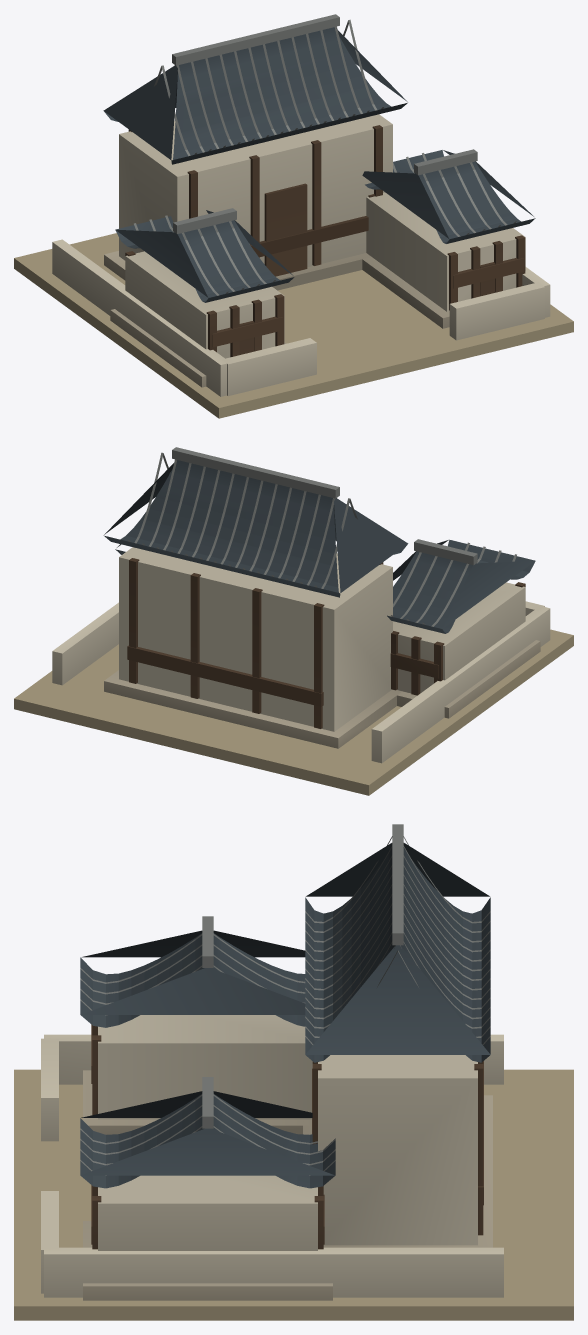
The model's file is hostel-3.glb.
3 views of the same model, one above another, from view 1: azimuth 30°, elevation 25°; view 2: azimuth 150°, elevation 25°; view 3: azimuth 270°, elevation 25° (orthographic). The views are drawn at different scales.
Parts seen in each view (by area): view 1: hostel 3 1, hostel 3 2, hostel 3 4, hostel 3 3, hostel 3 5, hostel 3 0; view 2: hostel 3 1, hostel 3 2, hostel 3 4, hostel 3 3, hostel 3 5, hostel 3 0; view 3: hostel 3 1, hostel 3 2, hostel 3 4, hostel 3 5, hostel 3 0, hostel 3 3.
Boxes of the visible parts, x1,y1,x2,y2 form: hostel 3 1: [52, 114, 550, 396]; hostel 3 2: [103, 27, 535, 302]; hostel 3 4: [14, 233, 573, 418]; hostel 3 3: [125, 125, 525, 357]; hostel 3 5: [134, 14, 516, 295]; hostel 3 0: [104, 251, 449, 387]; hostel 3 1: [52, 547, 550, 763]; hostel 3 2: [103, 460, 535, 633]; hostel 3 4: [14, 629, 573, 795]; hostel 3 3: [127, 558, 525, 728]; hostel 3 5: [128, 447, 516, 626]; hostel 3 0: [104, 640, 540, 748]; hostel 3 1: [41, 1015, 503, 1297]; hostel 3 2: [80, 843, 490, 1188]; hostel 3 4: [14, 1069, 573, 1320]; hostel 3 5: [80, 824, 490, 1175]; hostel 3 0: [83, 1070, 492, 1300]; hostel 3 3: [91, 1024, 483, 1249].
Bounding box in the file's own units: 2.8 × 1.78 × 2.8.
